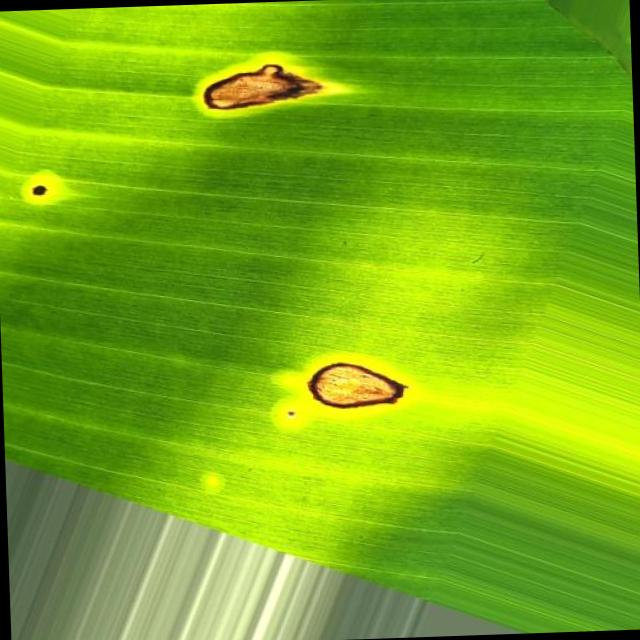Banana_Black_Sigatoka: (158, 26, 392, 165), (284, 325, 431, 452)
